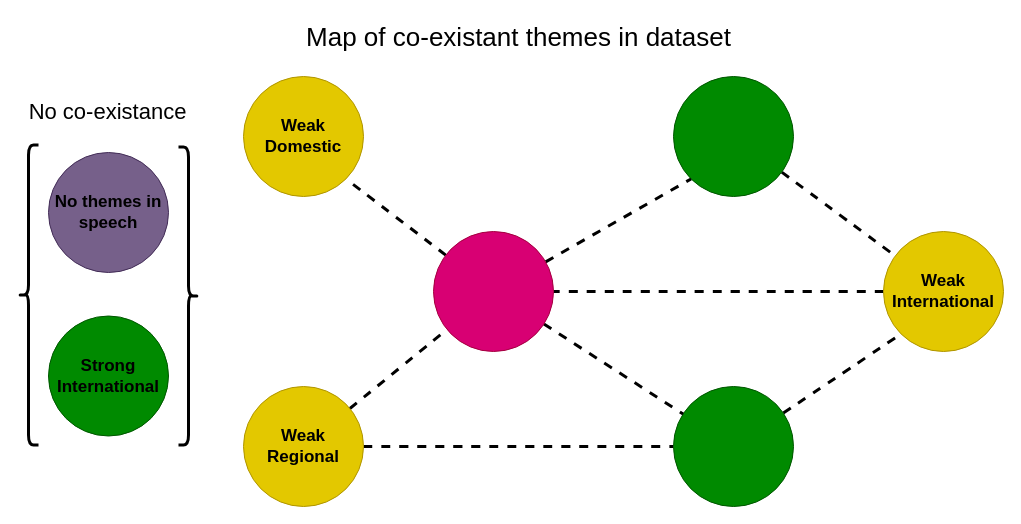
Some shapes in this 1021 by 524 pixel diagram are drawn without their labels. Here are the shapes that lost their labels. From the top down, the centre of each, then its label:
At [733,136]: "Strong Regional".
At [493,291]: "Green-Growth Critical".
At [733,446]: "Strong Domestic".
